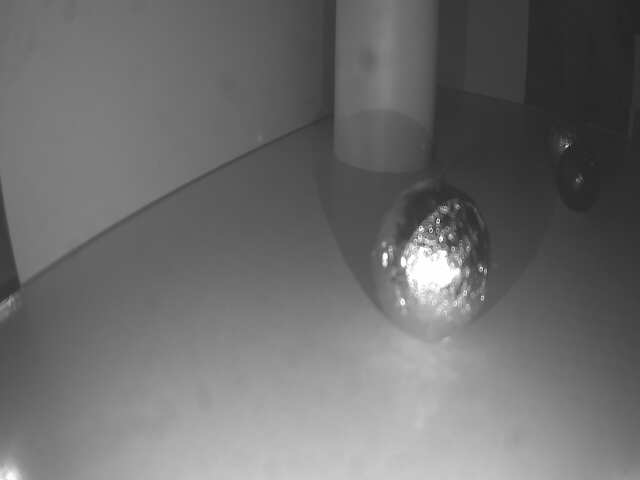Dead: (556, 147, 602, 211)
Live: (370, 180, 499, 350), (548, 110, 588, 168)
